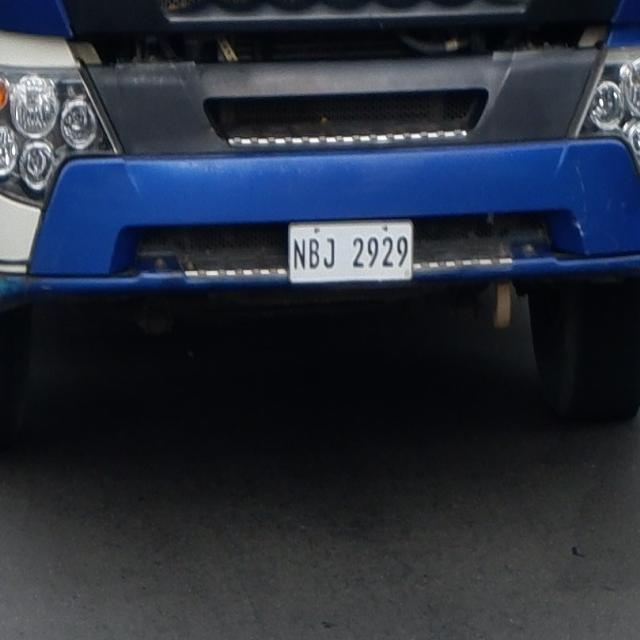LicensePlate: (277, 205, 423, 295)
